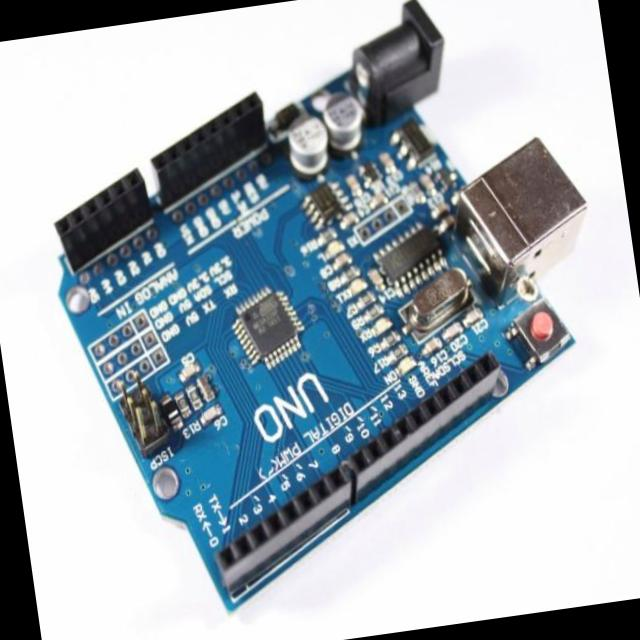arduino: (21, 0, 640, 639)
